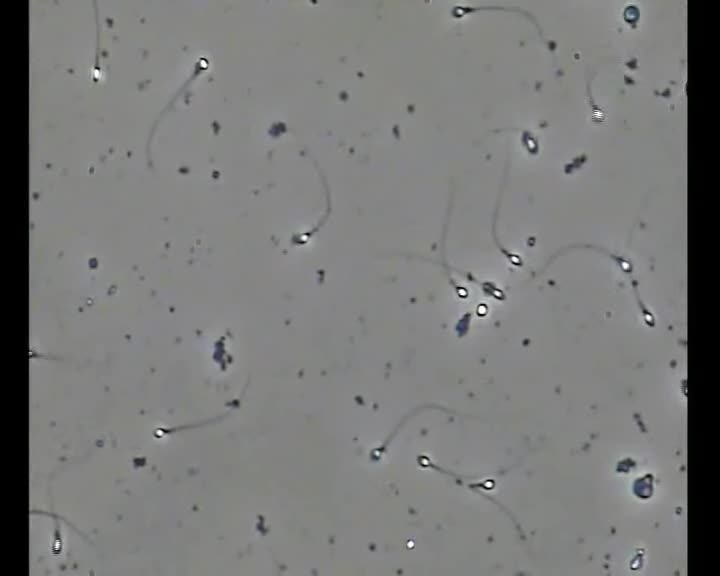spermhead: (291, 231, 311, 244), (370, 446, 384, 461)
